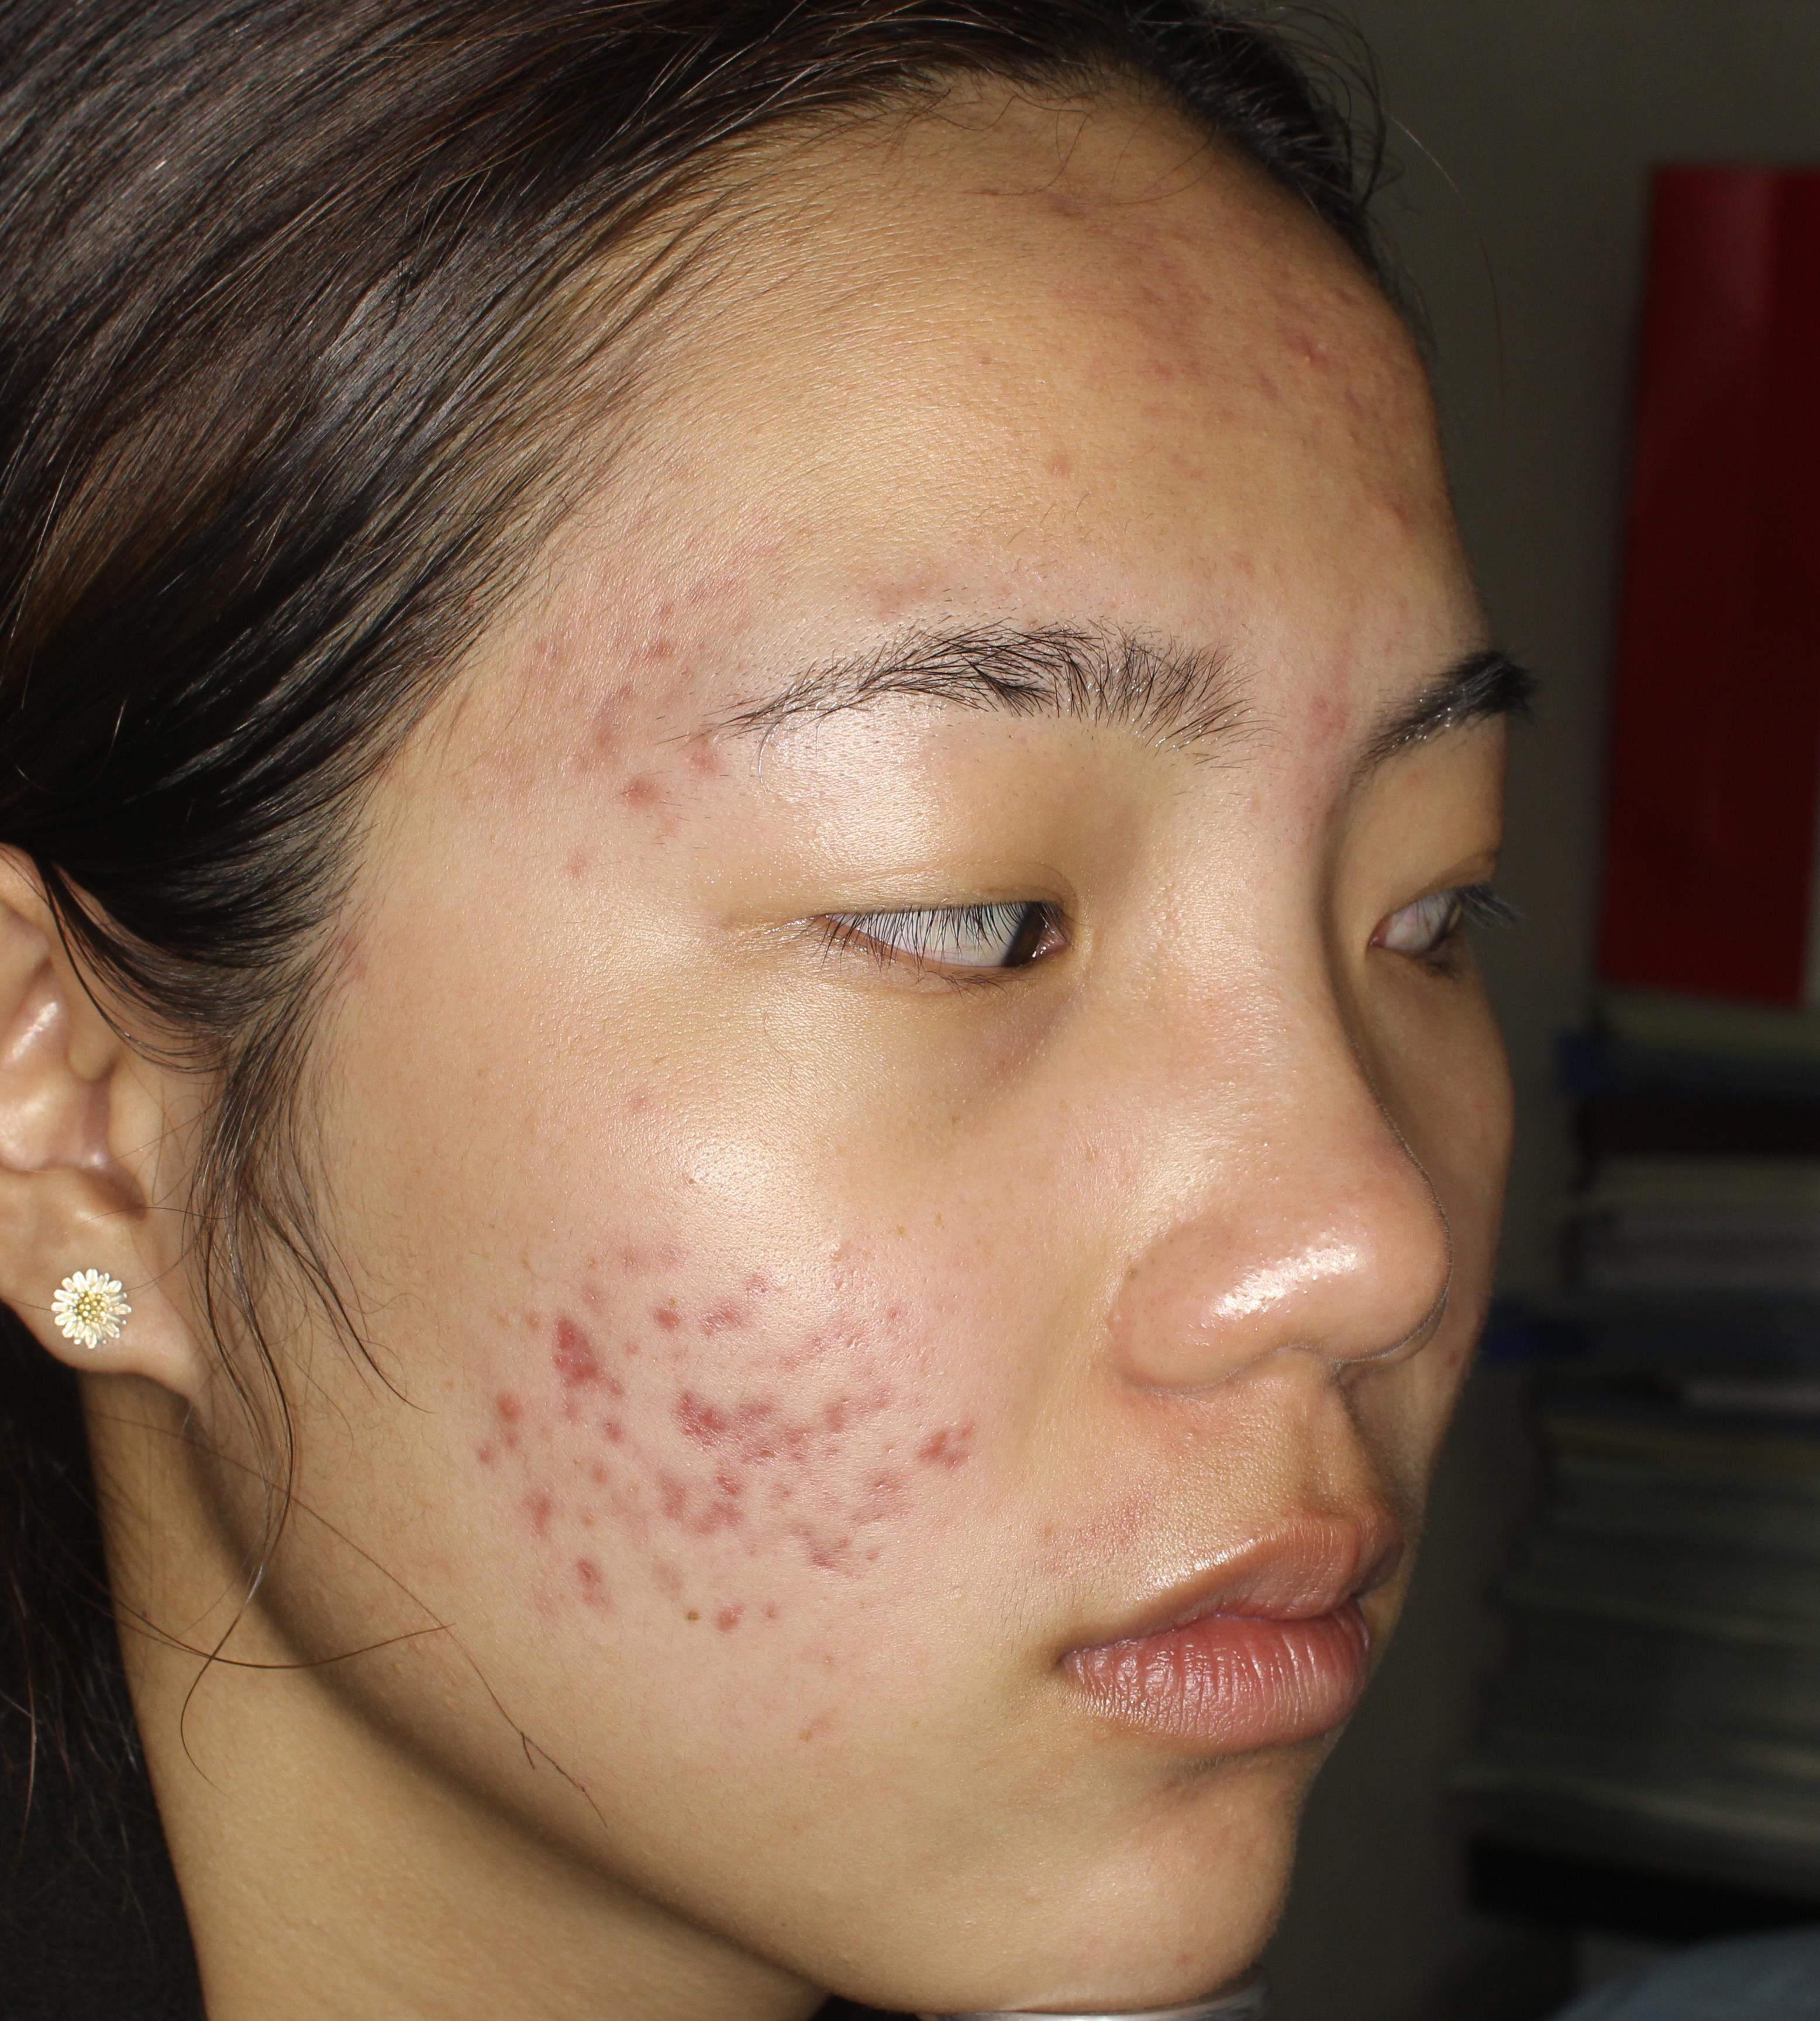fore: (646, 1450, 736, 1545), (682, 1577, 762, 1670), (780, 1517, 884, 1589), (1346, 495, 1449, 567), (664, 1370, 750, 1447), (924, 1419, 1001, 1505), (548, 1540, 629, 1621), (849, 1468, 933, 1545), (552, 711, 632, 787), (719, 1248, 780, 1347), (1274, 318, 1360, 388), (531, 1315, 611, 1387), (574, 1406, 643, 1491), (1268, 680, 1354, 743), (620, 1280, 696, 1347), (727, 1375, 791, 1447), (467, 1370, 534, 1428), (1117, 313, 1193, 362), (624, 604, 678, 671), (843, 1384, 921, 1428), (615, 760, 673, 818), (791, 1396, 852, 1450), (444, 1436, 508, 1487), (516, 1473, 552, 1540), (664, 1459, 704, 1487)
